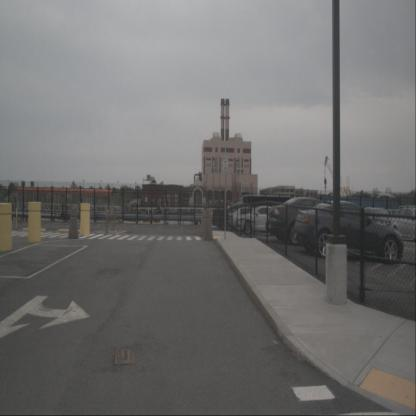vehicle-bus-rigid: (241, 192, 295, 225)
vehicle-car: (294, 200, 404, 264), (267, 196, 350, 243), (239, 205, 288, 237), (385, 204, 416, 245), (355, 207, 391, 238), (228, 205, 264, 231)
